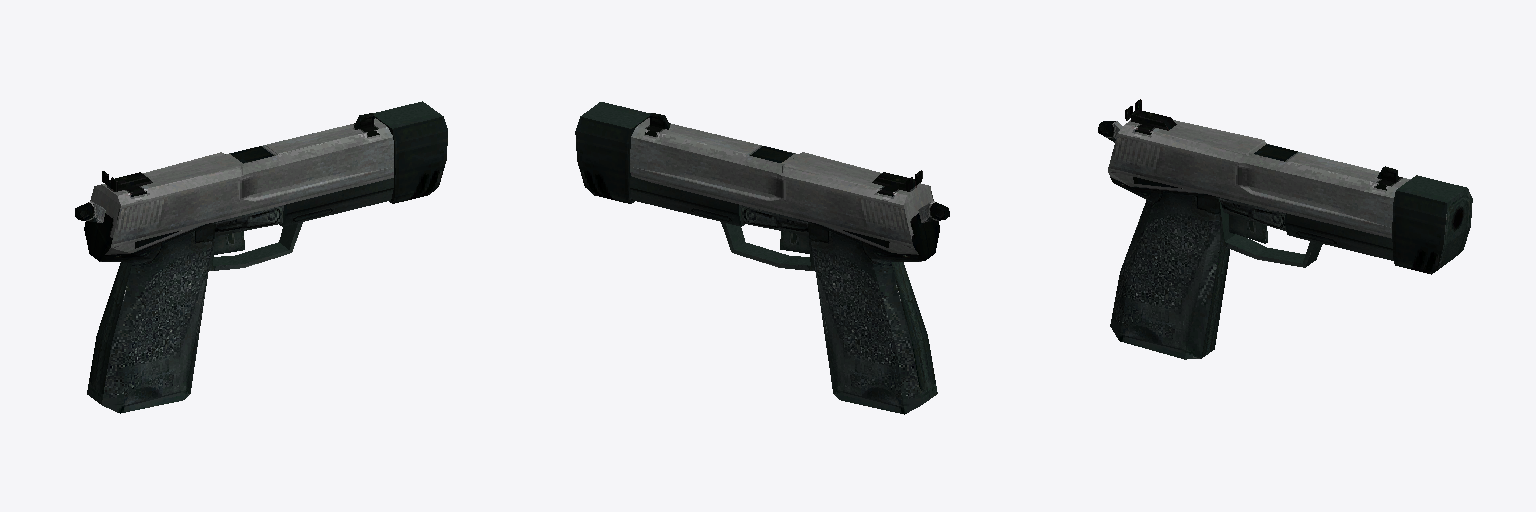
The picture shows the model from 3 angles: view 1: azimuth 30°, elevation 25°; view 2: azimuth 150°, elevation 25°; view 3: azimuth 330°, elevation 25°; orthographic projection.
Size of the model in its own units: 0.2403 by 0.148 by 0.0324.
1 materials, 1 textured.